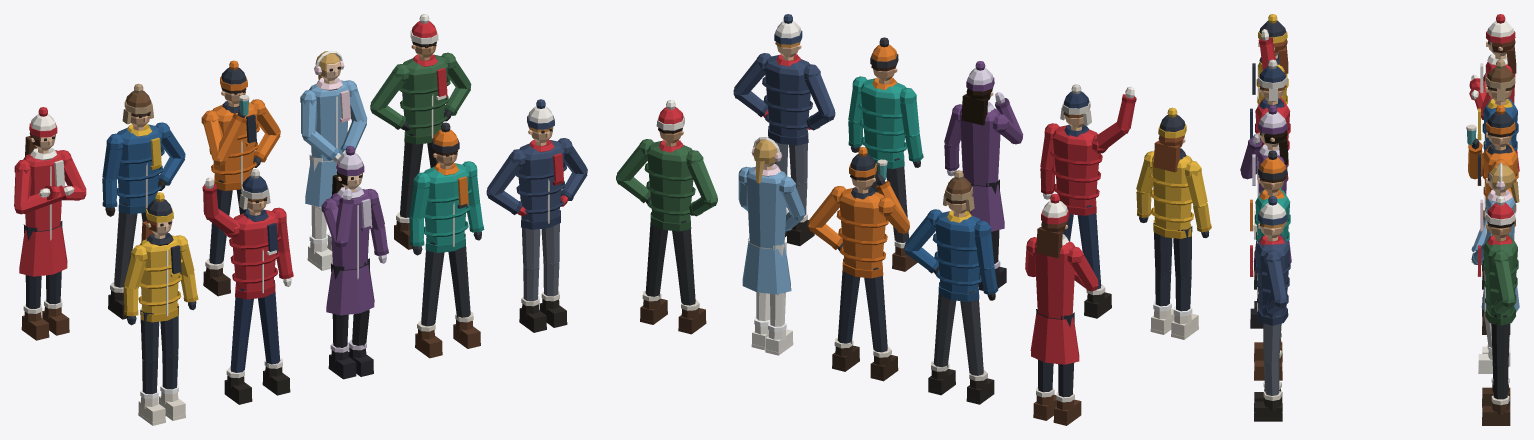
The model's file is people.glb.
3 renders of one model, left to right at view 1: azimuth 30°, elevation 25°; view 2: azimuth 150°, elevation 25°; view 3: azimuth 270°, elevation 25°, orthographic. The views are drawn at different scales.
Parts seen in each view (by area): view 1: Leonid, Zakhar, Kirill, Elena, Anna, Irina, Dmitry, Boris, Viktor, Galina; view 2: Viktor, Boris, Dmitry, Elena, Anna, Galina, Leonid, Zakhar, Kirill, Irina; view 3: Dmitry, Leonid, Viktor, Galina, Irina, Kirill, Zakhar, Anna, Boris, Elena.
Boxes of the visible parts, x1=… form: Leonid: x1=486, y1=99, x2=587, y2=332; Zakhar: x1=202, y1=169, x2=293, y2=404; Kirill: x1=409, y1=122, x2=484, y2=358; Elena: x1=123, y1=192, x2=198, y2=425; Anna: x1=14, y1=107, x2=86, y2=340; Irina: x1=321, y1=145, x2=388, y2=379; Dmitry: x1=370, y1=14, x2=471, y2=249; Boris: x1=102, y1=83, x2=185, y2=319; Viktor: x1=201, y1=60, x2=280, y2=296; Galina: x1=300, y1=50, x2=367, y2=270; Viktor: x1=808, y1=147, x2=909, y2=381; Boris: x1=904, y1=170, x2=998, y2=404; Dmitry: x1=616, y1=100, x2=717, y2=334; Elena: x1=1136, y1=107, x2=1211, y2=339; Anna: x1=1025, y1=193, x2=1098, y2=425; Galina: x1=738, y1=137, x2=804, y2=355; Leonid: x1=733, y1=14, x2=835, y2=245; Zakhar: x1=1040, y1=84, x2=1136, y2=318; Kirill: x1=848, y1=37, x2=923, y2=271; Irina: x1=944, y1=61, x2=1023, y2=290; Dmitry: x1=1477, y1=196, x2=1518, y2=425; Leonid: x1=1250, y1=196, x2=1290, y2=421; Viktor: x1=1466, y1=105, x2=1518, y2=334; Galina: x1=1471, y1=162, x2=1519, y2=373; Irina: x1=1240, y1=105, x2=1291, y2=328; Kirill: x1=1250, y1=150, x2=1290, y2=380; Zakhar: x1=1250, y1=29, x2=1290, y2=289; Anna: x1=1469, y1=14, x2=1519, y2=219; Boris: x1=1477, y1=59, x2=1518, y2=289; Elena: x1=1252, y1=14, x2=1288, y2=239.
Bounding box in the file's own units: 4.17 × 1.96 × 2.21.
